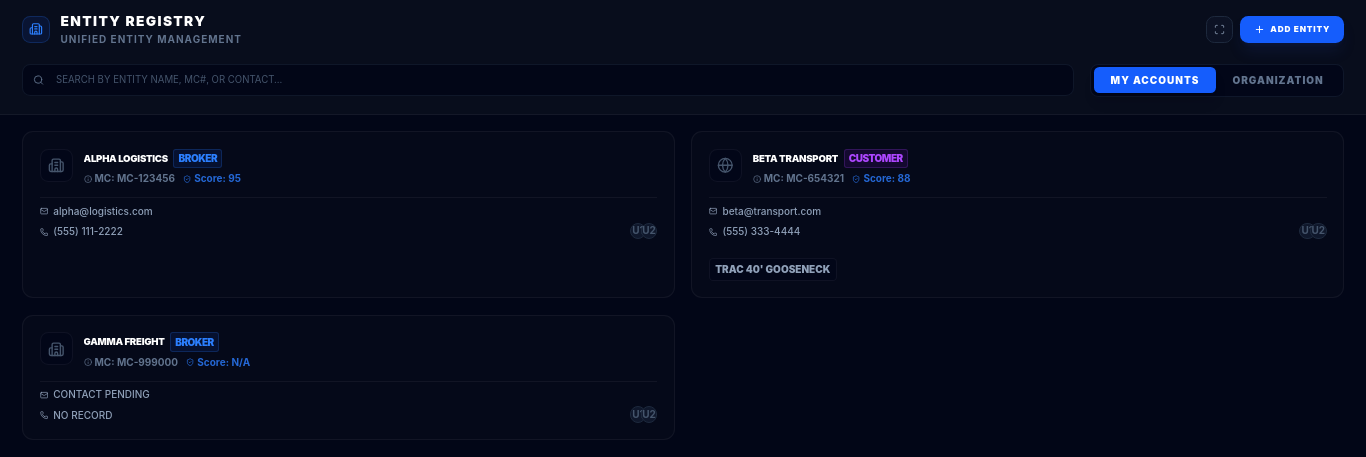
Test: BrokerManager component › search functionality › filters brokers by name
The width and height of the screenshot is (1366, 457).
Expected: the heading "Alpha Logistics" is shown, [84,152,168,165]
Type "Alpha" into the field with placeholder "SEARCH BY ENTITY NAME, MC#, OR CONTACT..." at [548, 80], box [22,64,1074,96]
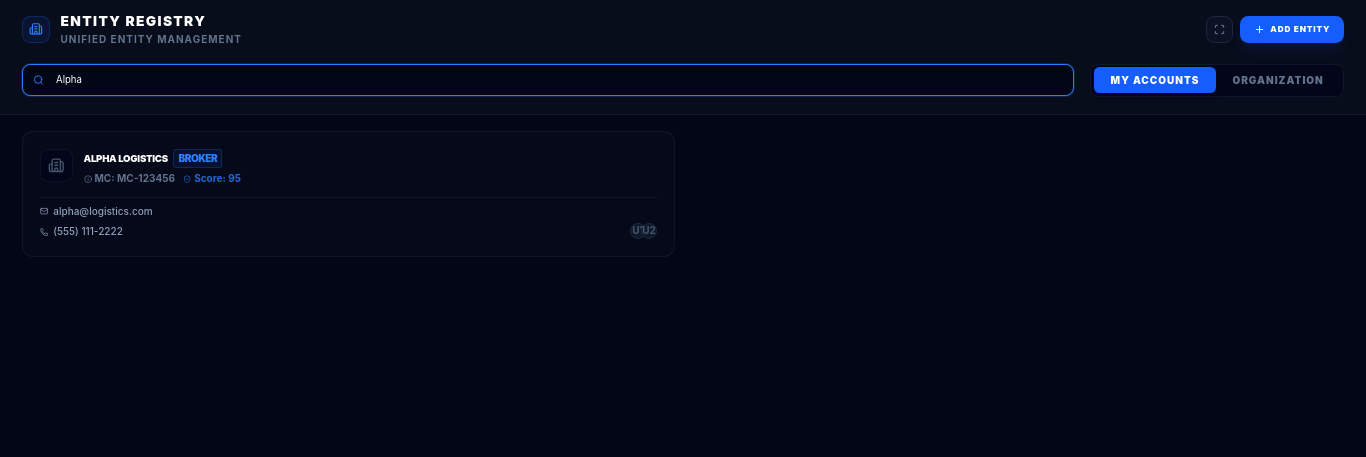
Expected: the heading "Alpha Logistics" is shown, [84,152,168,165]
Expected: the heading "Beta Transport" is gone
Expected: the heading "Gamma Freight" is gone
